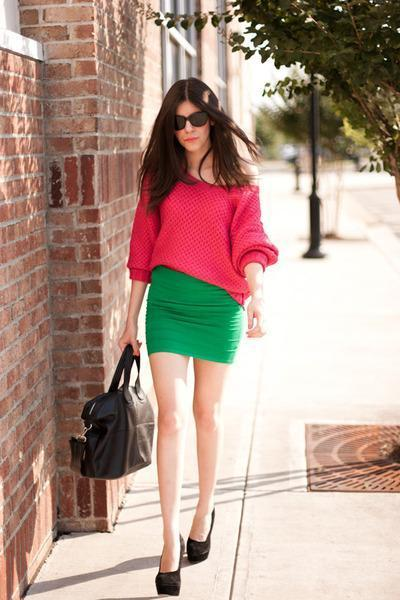bag: (69, 342, 153, 480)
jacket: (127, 156, 277, 299)
shoe: (156, 537, 203, 595)
skirt: (146, 265, 243, 362)
